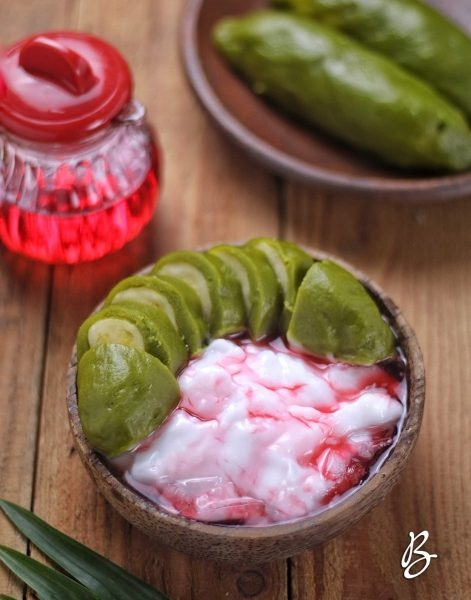es_pisang_ijo: (76, 236, 414, 524)
